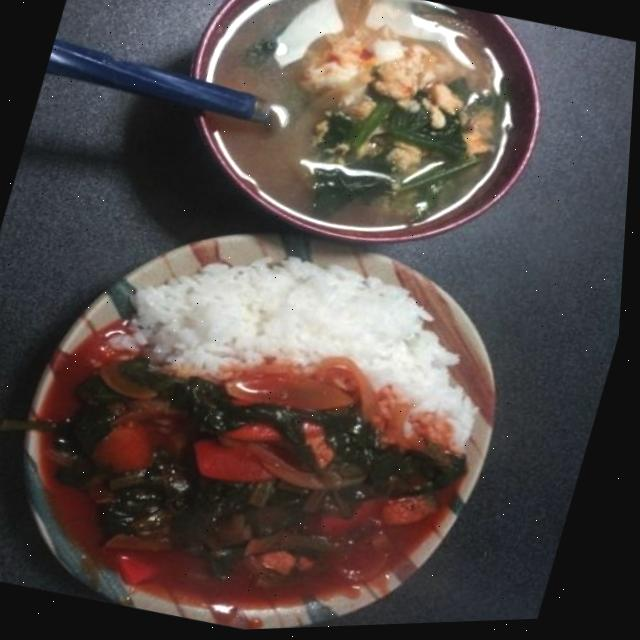汤锅炖物: (150, 0, 577, 297)
牛肉菜式: (0, 172, 553, 639)
